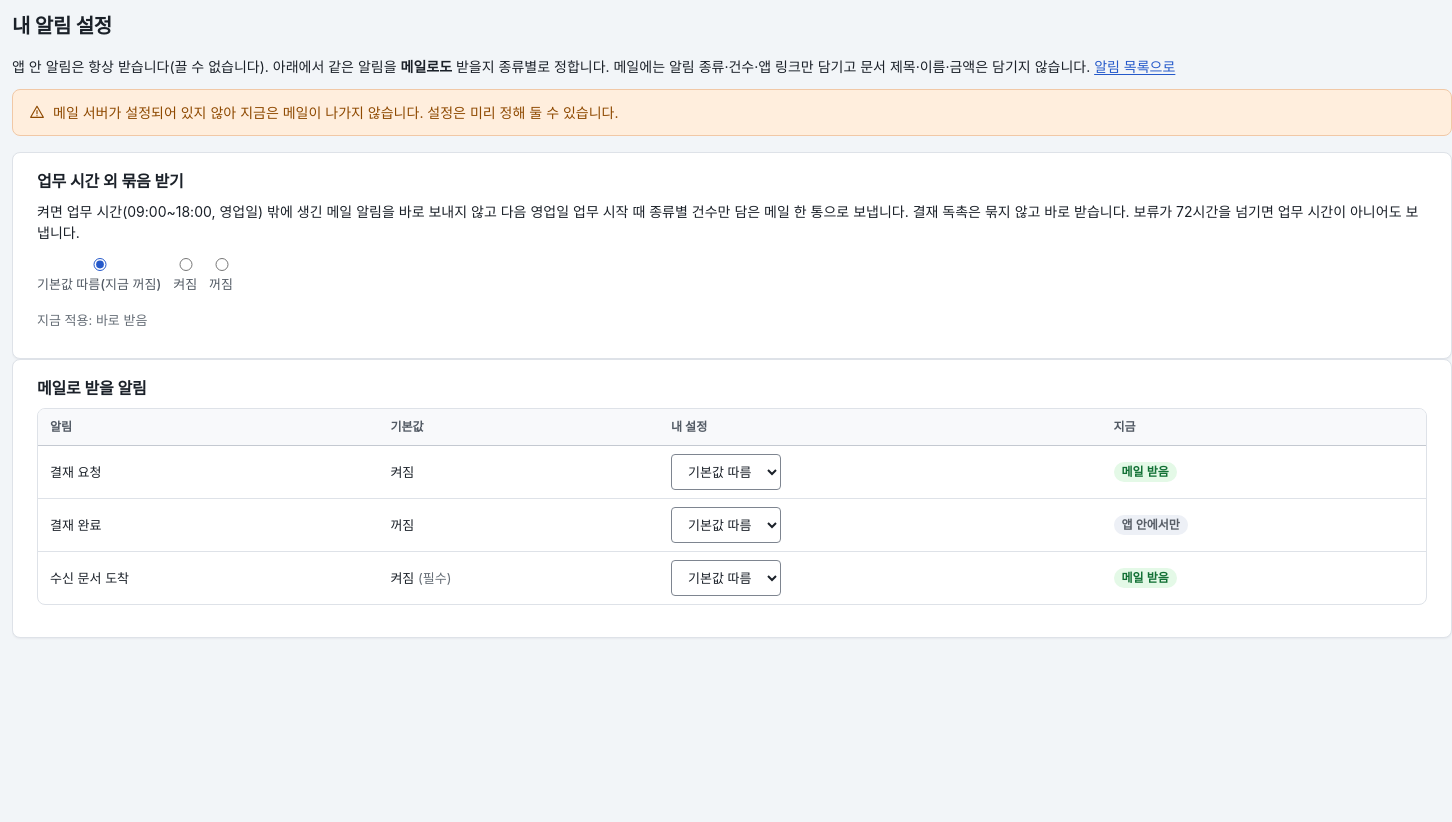
Scenario: 내 알림 설정 › 메일 서버가 없으면 안내하고, 서버 오류는 업무 문구로 보인다
Expected: the text "메일 서버가 설정되어 있지 않아 지금은 메일이 나가지 않습니다. 설정은 미리 정해 둘 수 있습니다." is shown, [53,102,618,123]
Select "꺼짐" in the dropdown named "결재 요청 메일": (726, 472) [671,454,781,490]
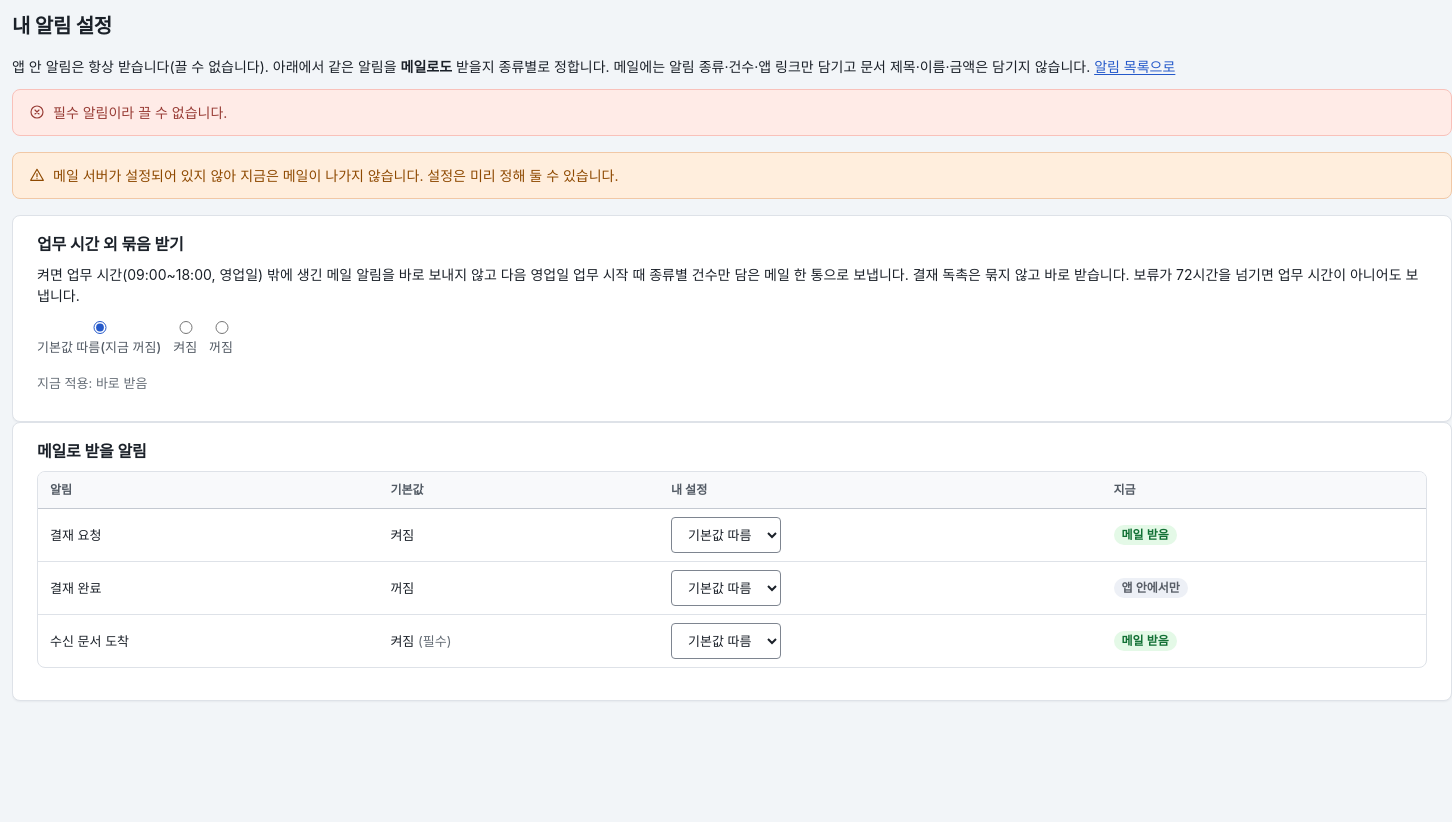
Result: the text "필수 알림이라 끌 수 없습니다." is shown at [53,102,227,123]
